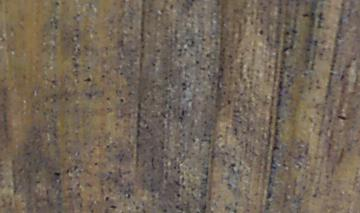tarspot: (337, 147, 345, 165), (266, 172, 274, 187), (149, 156, 156, 173), (281, 44, 294, 53), (276, 92, 283, 108), (172, 178, 182, 189), (71, 43, 81, 54), (231, 125, 239, 138), (158, 139, 166, 152), (83, 90, 93, 100), (116, 151, 125, 162), (312, 101, 323, 110), (335, 114, 347, 122), (277, 79, 285, 91), (268, 151, 275, 164), (317, 10, 326, 20), (232, 199, 241, 209), (224, 181, 233, 191), (198, 190, 207, 200), (316, 19, 324, 30), (199, 203, 208, 212), (186, 39, 195, 48), (157, 111, 167, 119), (273, 127, 281, 137), (199, 177, 209, 185), (223, 204, 231, 213), (344, 62, 353, 70), (220, 158, 228, 167), (289, 28, 299, 35), (281, 158, 287, 169), (242, 16, 248, 27), (324, 92, 329, 105), (83, 75, 91, 83), (104, 94, 112, 102), (229, 161, 237, 169), (113, 121, 121, 129), (338, 73, 345, 82), (265, 190, 272, 199), (126, 90, 135, 97), (309, 62, 315, 72), (231, 108, 241, 114), (231, 113, 241, 119), (204, 166, 210, 176), (53, 170, 61, 177), (118, 96, 125, 104), (301, 11, 308, 19), (257, 29, 265, 36), (225, 98, 232, 106), (218, 64, 225, 72), (177, 115, 184, 123), (271, 145, 279, 152), (154, 48, 162, 55), (85, 64, 92, 72), (71, 62, 79, 69), (127, 24, 135, 31), (203, 51, 211, 58), (174, 169, 182, 176), (215, 133, 223, 140), (190, 192, 197, 200), (33, 178, 41, 185), (302, 70, 310, 77), (176, 46, 181, 57), (108, 203, 117, 209), (91, 161, 100, 167), (51, 77, 57, 86), (69, 56, 78, 62), (180, 182, 186, 191), (312, 190, 317, 200), (180, 109, 187, 116), (175, 192, 182, 199), (53, 1, 60, 8), (201, 119, 208, 126), (117, 70, 124, 77), (236, 36, 243, 43), (306, 116, 313, 123), (191, 137, 197, 145), (227, 51, 233, 59), (267, 62, 273, 70), (144, 124, 150, 132), (270, 165, 278, 171), (189, 186, 197, 192), (34, 167, 40, 175), (135, 142, 141, 150), (198, 65, 206, 71), (75, 181, 81, 189), (316, 129, 322, 137), (320, 112, 326, 120), (313, 37, 318, 46), (309, 11, 315, 18), (180, 86, 187, 92), (104, 194, 110, 201), (173, 204, 180, 210), (100, 72, 106, 79), (103, 143, 110, 149), (200, 35, 206, 42), (304, 46, 310, 53), (350, 56, 357, 62), (275, 114, 281, 121), (314, 84, 321, 90), (296, 88, 303, 94), (324, 173, 330, 180), (34, 106, 40, 113), (286, 82, 293, 88), (75, 191, 81, 198), (88, 207, 95, 213), (160, 122, 166, 129), (345, 146, 352, 152), (73, 33, 80, 39), (179, 81, 187, 86), (73, 164, 78, 172), (148, 62, 156, 67), (328, 71, 336, 76), (224, 123, 229, 131), (277, 6, 282, 14), (194, 59, 200, 65), (167, 104, 173, 110), (171, 164, 177, 170), (82, 140, 88, 146), (285, 73, 291, 79), (180, 131, 186, 137), (250, 17, 254, 26), (314, 110, 320, 116), (105, 104, 110, 111), (125, 193, 132, 198), (232, 208, 239, 213), (301, 184, 306, 191), (194, 209, 202, 213), (284, 30, 289, 36), (161, 208, 167, 213), (134, 205, 140, 210), (141, 208, 147, 213), (65, 168, 70, 174), (169, 3, 174, 9), (163, 75, 168, 81), (202, 131, 207, 137), (63, 97, 68, 103), (327, 118, 333, 123), (311, 96, 316, 102), (189, 1, 196, 5), (209, 154, 214, 159), (213, 40, 217, 44)
